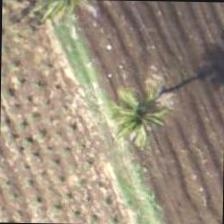Kelapa_Sawit: (94, 67, 186, 159)
